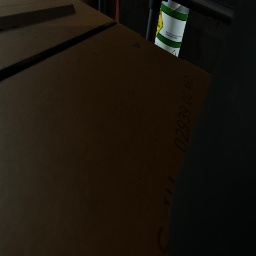0: (154, 0, 190, 57)
NitrogenTank ,: (82, 0, 121, 24), (79, 0, 82, 2)
